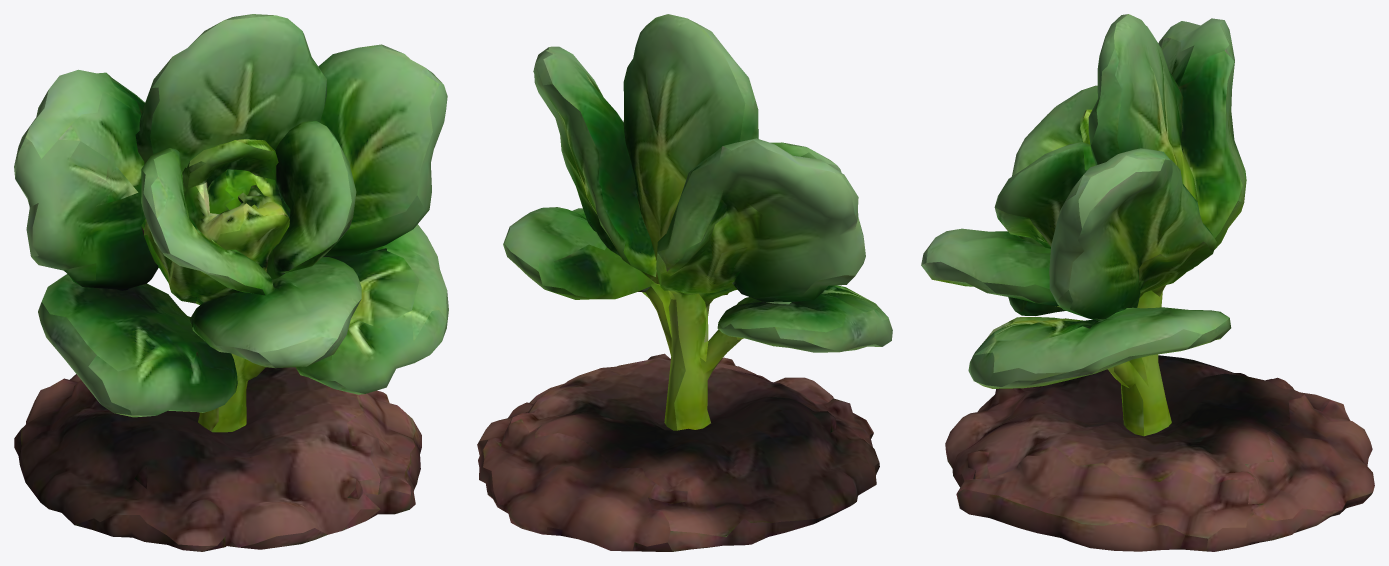
File: crop_spinach.glb
The picture shows the model from 3 angles, left to right: view 1: azimuth 30°, elevation 25°; view 2: azimuth 150°, elevation 25°; view 3: azimuth 270°, elevation 25°; orthographic projection. The views are drawn at different scales.
Parts seen in each view (by area): view 1: crop_spinach_s15; view 2: crop_spinach_s15; view 3: crop_spinach_s15.
Boxes of the visible parts, box(x1,y1,x2,y2) form: crop_spinach_s15: box(14, 14, 448, 551); crop_spinach_s15: box(477, 14, 892, 551); crop_spinach_s15: box(921, 14, 1374, 551).
Bounding box in the file's own units: 0.8734 × 1 × 0.9061.
Materials: 1 (1 with a texture image).
